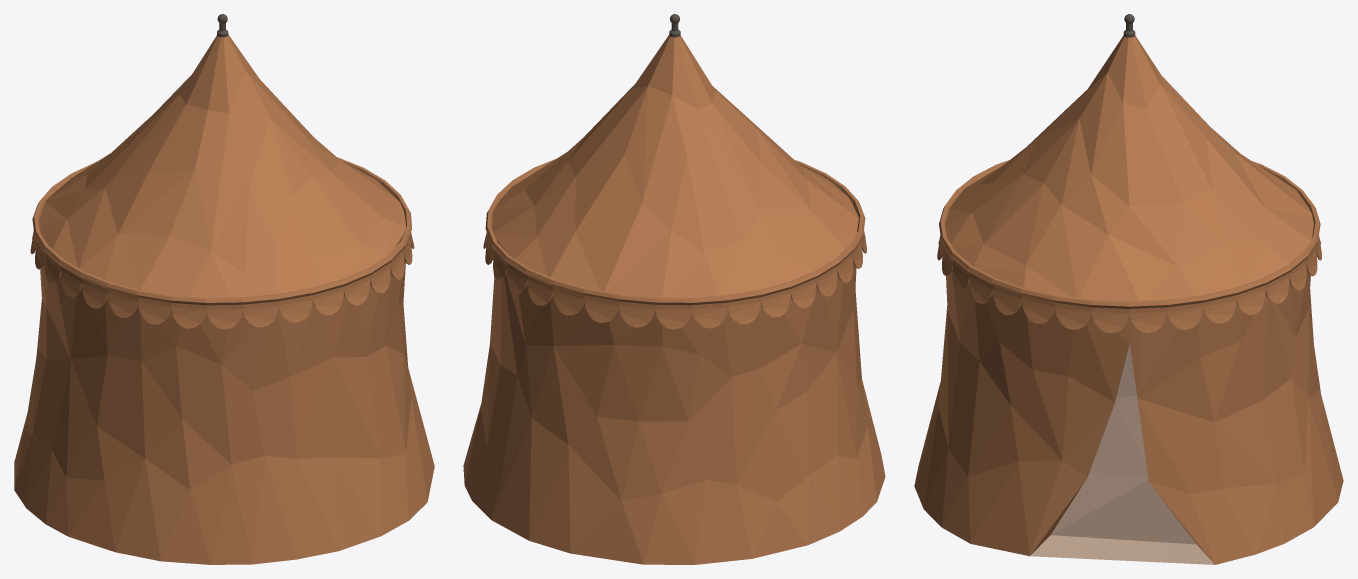
The model's file is tent_a.glb.
3 views of the same model, side by side, from view 1: azimuth 30°, elevation 25°; view 2: azimuth 150°, elevation 25°; view 3: azimuth 270°, elevation 25° (orthographic).
Visible parts, largest first — view 1: tent_a; view 2: tent_a; view 3: tent_a.
Part boxes in pixels (<box>): tent_a: <box>14,14,434,564</box>; tent_a: <box>463,14,885,564</box>; tent_a: <box>914,14,1343,564</box>.
Size of the model in its own units: 3.74 by 4.69 by 3.91.
